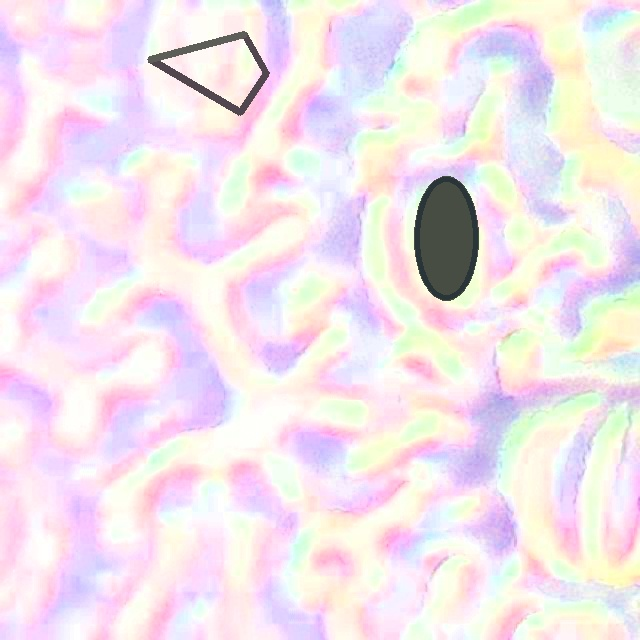close: (147, 31, 268, 114)
open: (413, 177, 478, 299)
